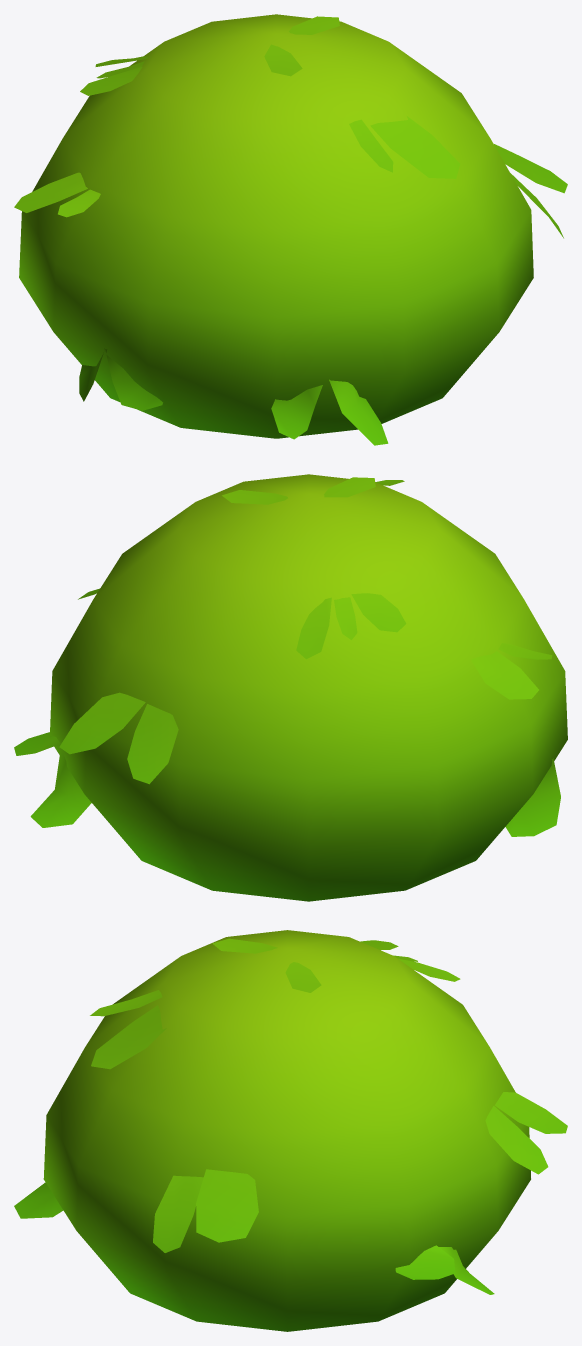
The model's file is Grasses.fbx.
3 renders of one model, top to bottom at view 1: azimuth 30°, elevation 25°; view 2: azimuth 150°, elevation 25°; view 3: azimuth 270°, elevation 25°, orthographic. The views are drawn at different scales.
Parts seen in each view (by area): view 1: Grasses; view 2: Grasses; view 3: Grasses.
Boxes of the visible parts, box(x1,y1,x2,y2) form: Grasses: box(14, 14, 567, 445); Grasses: box(14, 474, 567, 901); Grasses: box(14, 930, 567, 1331).
Size of the model in its own units: 152 by 94.57 by 155.
